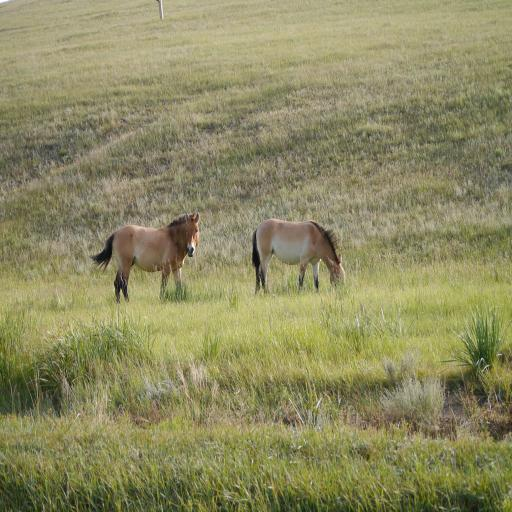horse: (90, 216, 202, 306), (250, 222, 350, 295)
